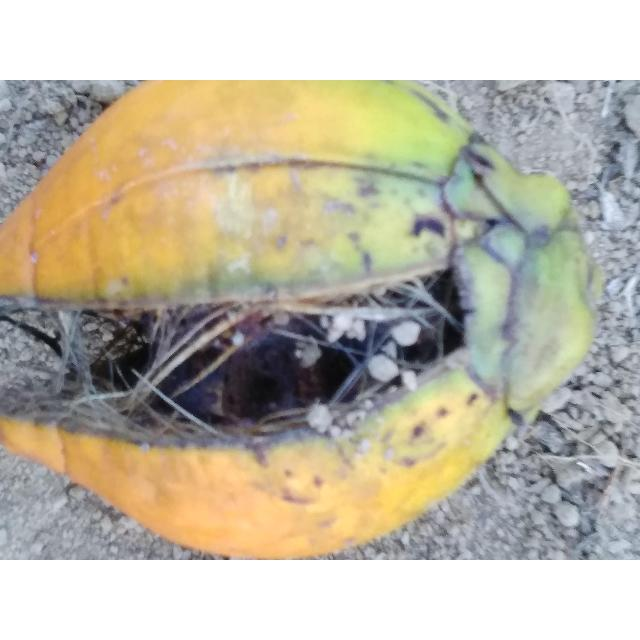damaged: (0, 80, 602, 558)
